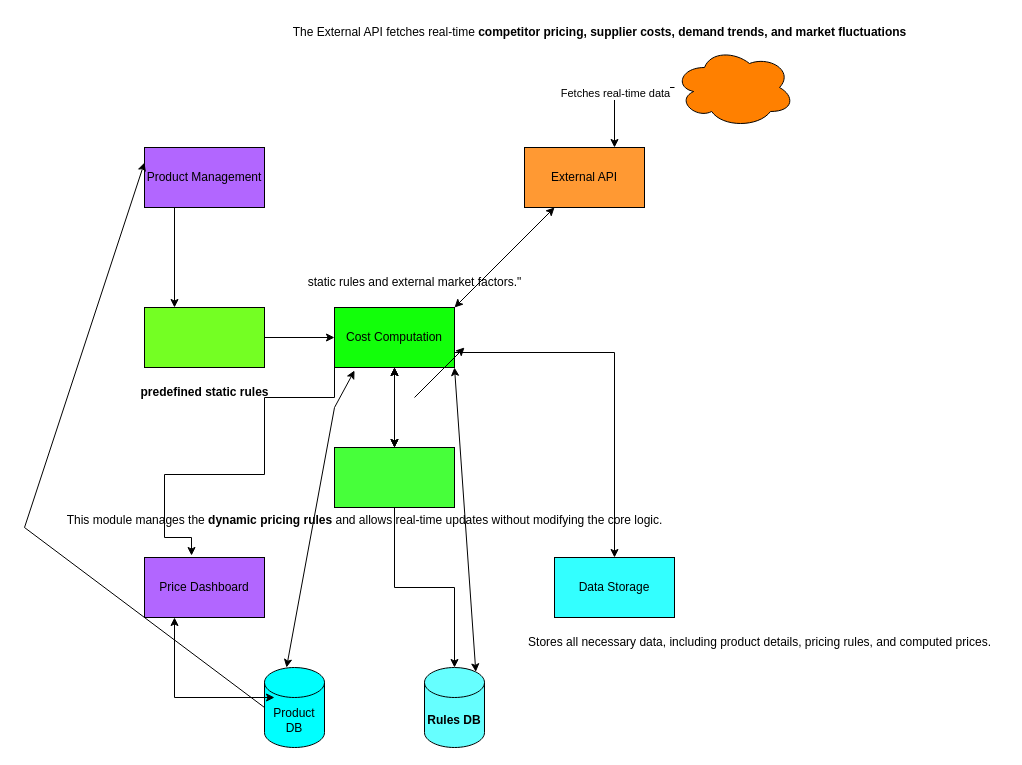
Some shapes in this 1022 by 765 pixel diagram are drawn without their labels. The shapes that lost their labels are listed below. From the top down, each one's box as (x1, y1, x2, y2) in pixels, then its label:
(674, 46, 794, 128): External Market Factors
(144, 306, 264, 368): Quality Computation
(334, 446, 454, 508): Rules Engine
